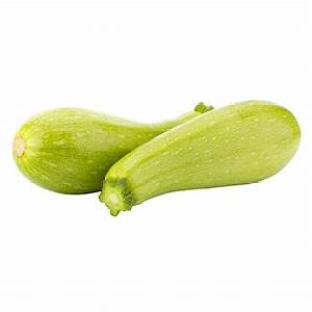Zucchini: (100, 101, 300, 215), (14, 103, 212, 193)
